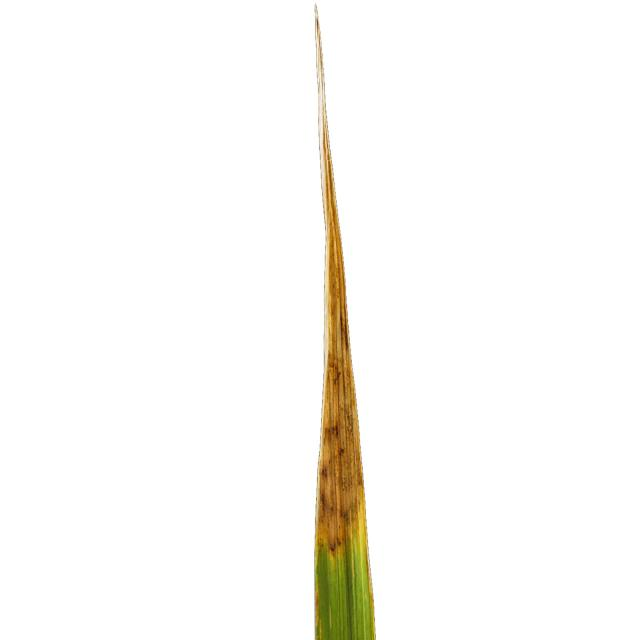Leaf scald: (210, 6, 432, 640)
